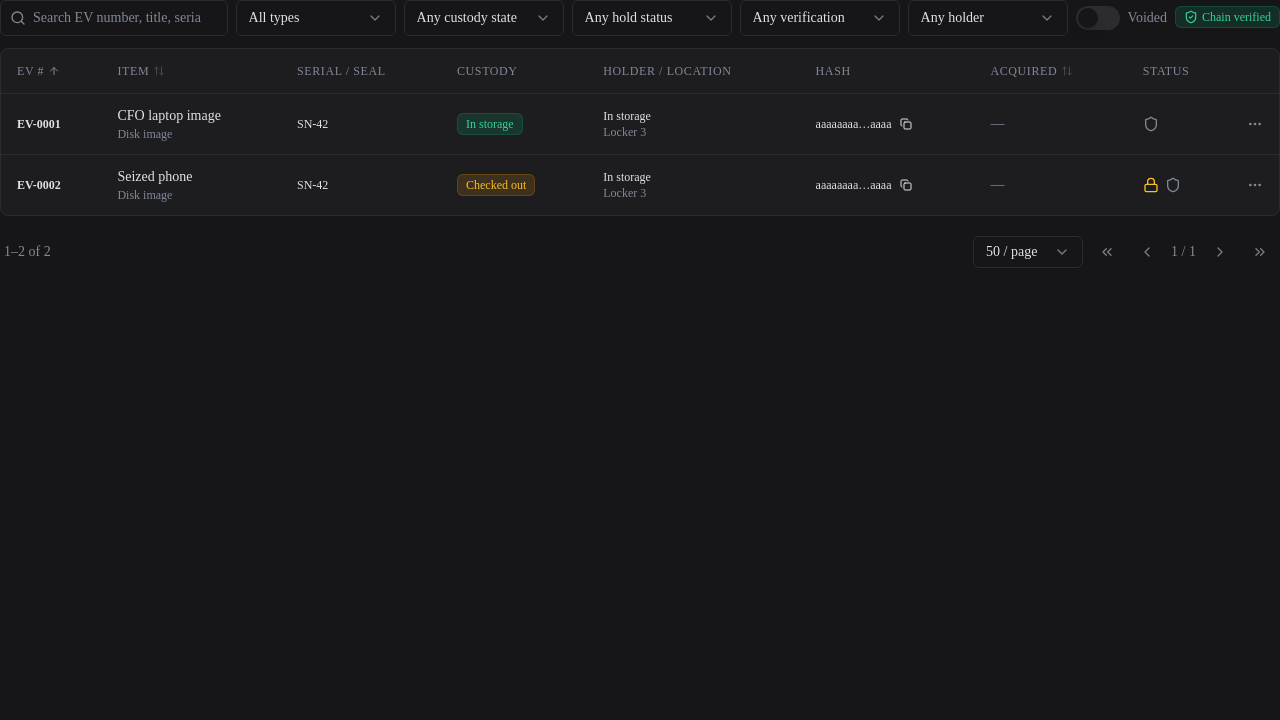
Test: EvidenceTab data › opens the item drawer from a row, with the custody timeline
Click the text "CFO laptop image". click: (640, 124)
box: left=1, top=93, right=1279, bottom=154
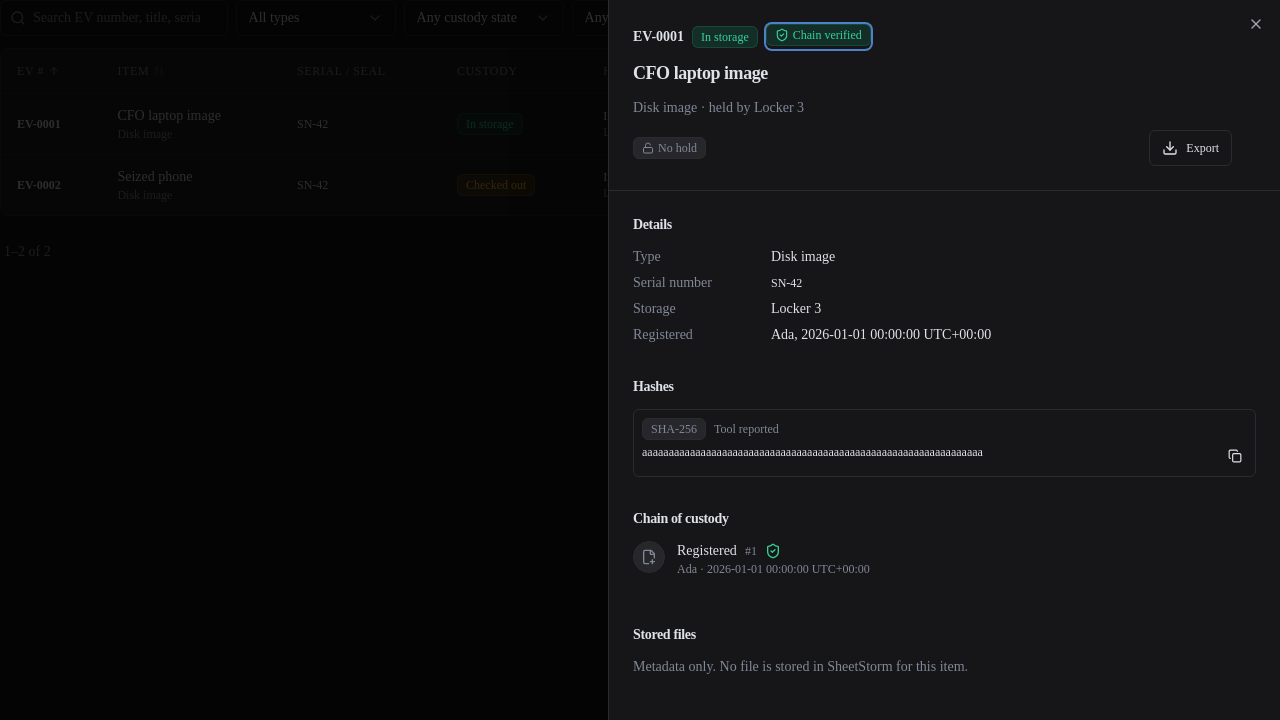
Expected: the list named "Chain of custody" is shown, left=633, top=541, right=870, bottom=576
Expected: the text "Registered" below "Chain of custody" is shown, left=677, top=543, right=737, bottom=558
